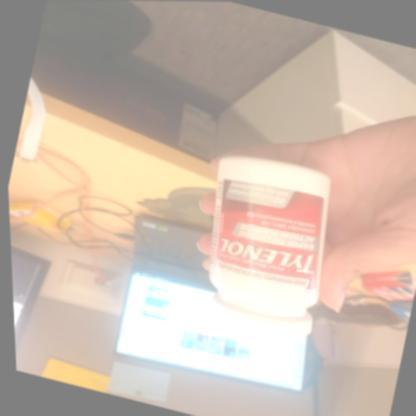jar: (205, 155, 331, 320)
